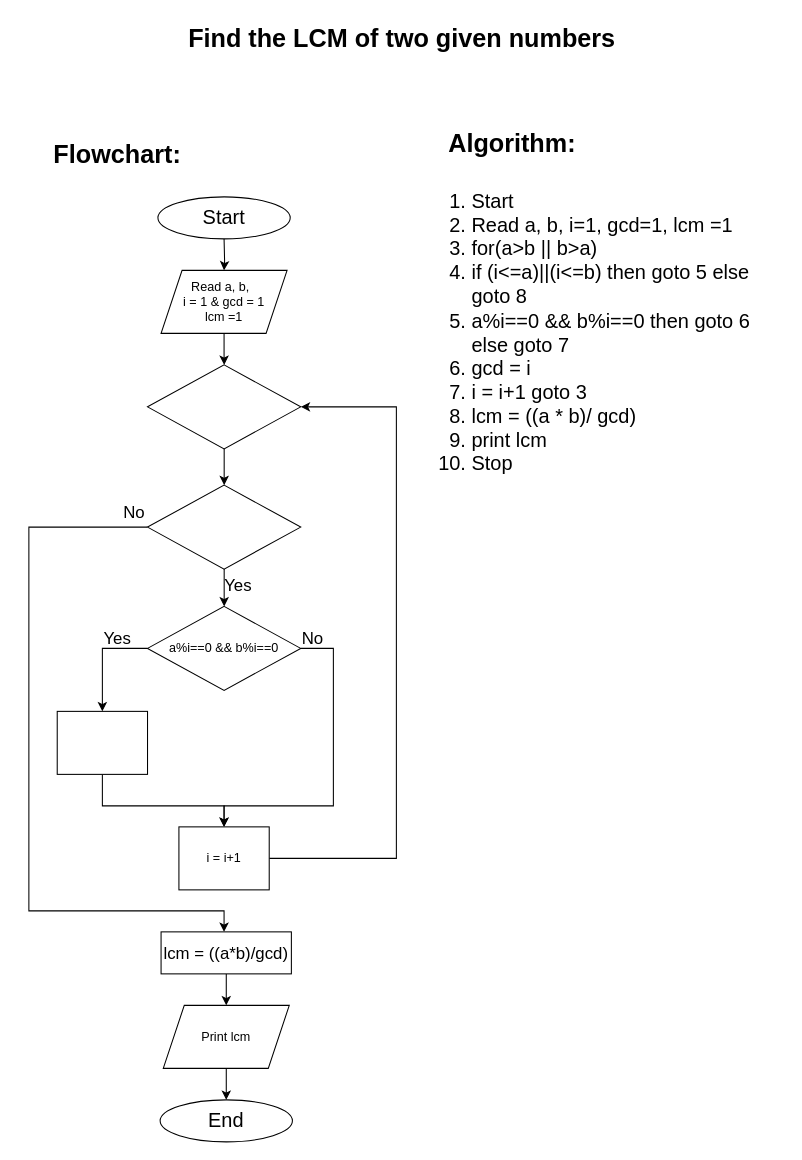
Image size: 802x1160. Some labels were removed from this diagram. Here are the shapes that lost their labels. From the top down, the centre of each, then its label:
At (x=223, y=406): "for a>b || b>a".
At (x=223, y=526): "(i<=a)||(i<=b)".
At (x=102, y=742): "gcd = i".
